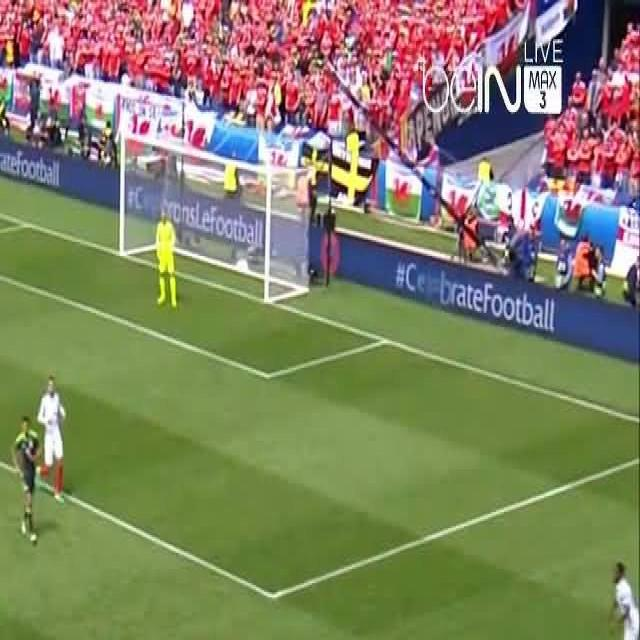player-white: (35, 376, 67, 506), (12, 417, 40, 546), (154, 204, 177, 308), (610, 561, 639, 640)
